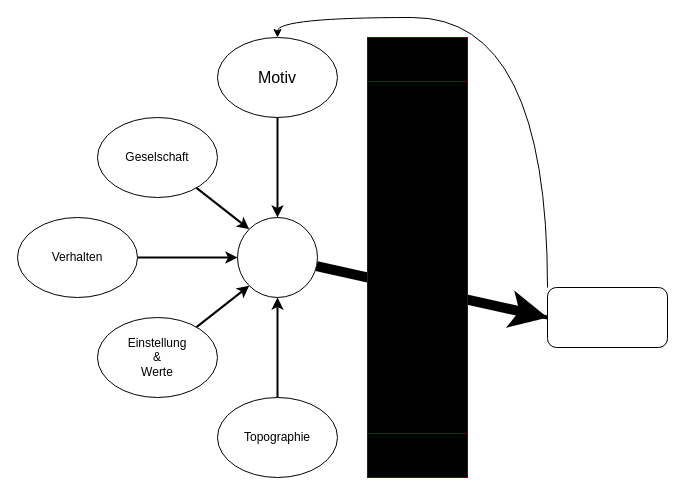
Some shapes in this 685 by 495 pixel diagram are drawn without their labels. The box of each missing label's shape, as (x1, y1, x2, y2) in pixels:
Handlung: (366, 36, 468, 478)
Lebens- stiel: (236, 216, 318, 298)
Raumbezogene Auswirkungen: (546, 286, 668, 348)
